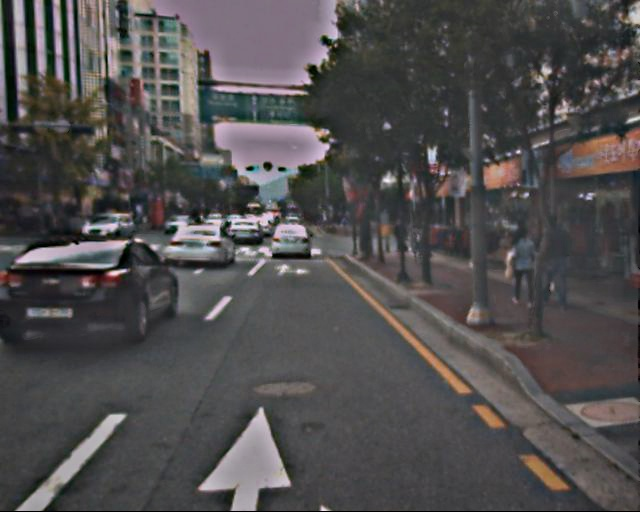person: (533, 214, 573, 311), (505, 229, 537, 308), (410, 219, 428, 264)
